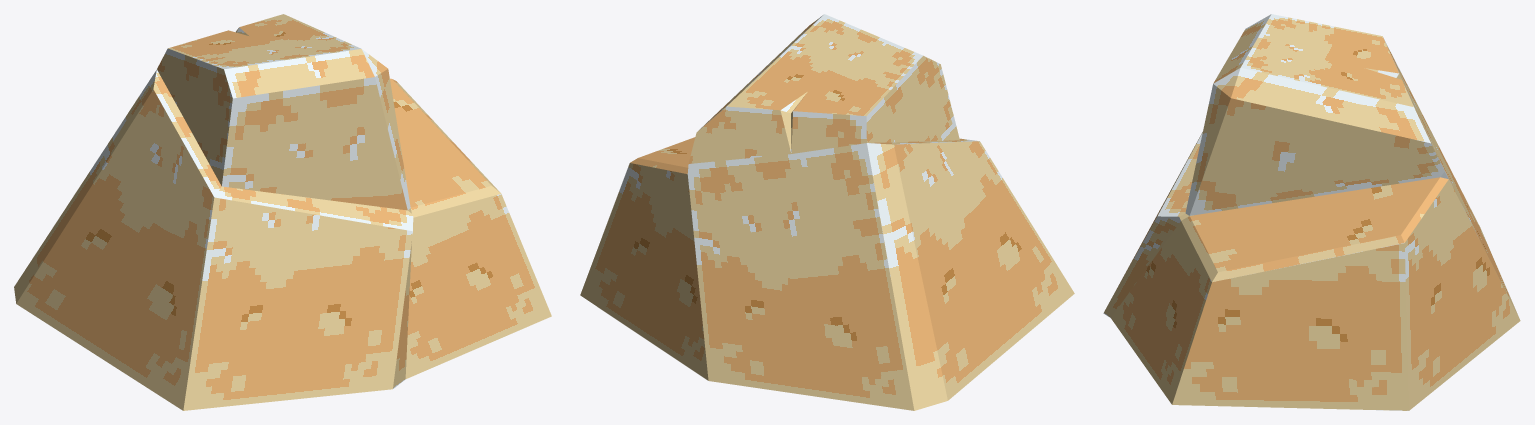
The model's file is rocks_0.glb.
The picture shows the model from 3 angles, left to right: view 1: azimuth 30°, elevation 25°; view 2: azimuth 150°, elevation 25°; view 3: azimuth 270°, elevation 25°; orthographic projection. The views are drawn at different scales.
Visible parts, largest first — view 1: mesh.rocks_0; view 2: mesh.rocks_0; view 3: mesh.rocks_0.
Boxes of the visible parts, bbox=[...] form: mesh.rocks_0: bbox=[14, 14, 551, 410]; mesh.rocks_0: bbox=[580, 14, 1074, 410]; mesh.rocks_0: bbox=[1103, 14, 1520, 410].
Bounding box in the file's own units: 0.8512 × 0.553 × 0.7874.
Materials: 1 (1 with a texture image).
